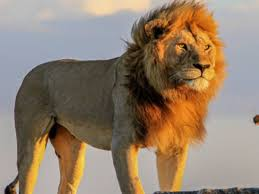lion: (12, 10, 218, 182)
